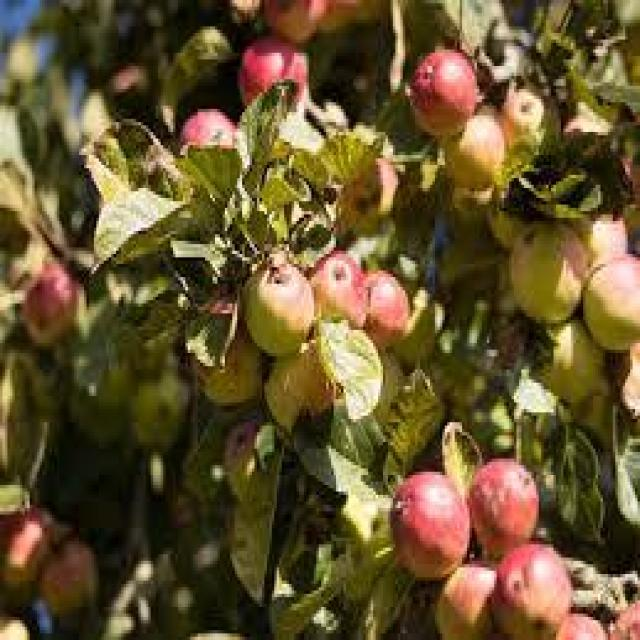apple: (386, 465, 474, 571), (506, 221, 590, 317), (460, 448, 536, 548), (487, 541, 568, 627), (237, 248, 309, 336), (440, 99, 504, 191), (176, 99, 242, 188), (410, 46, 474, 135), (311, 241, 366, 336), (240, 33, 306, 106), (360, 270, 418, 346)
